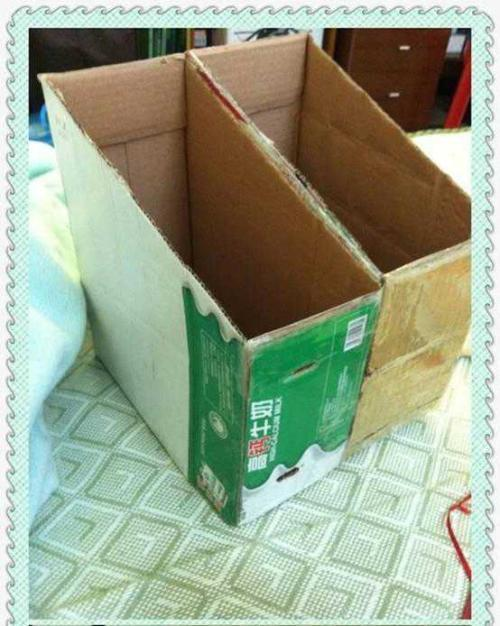cardboard: (44, 42, 471, 522)
